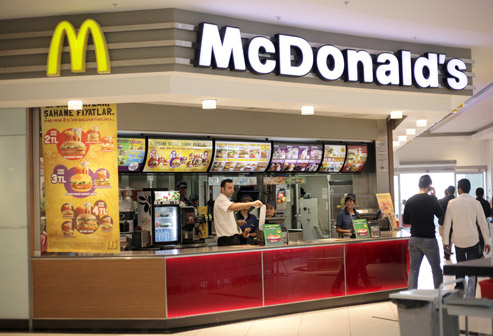mcdonalds: (43, 17, 117, 79)
